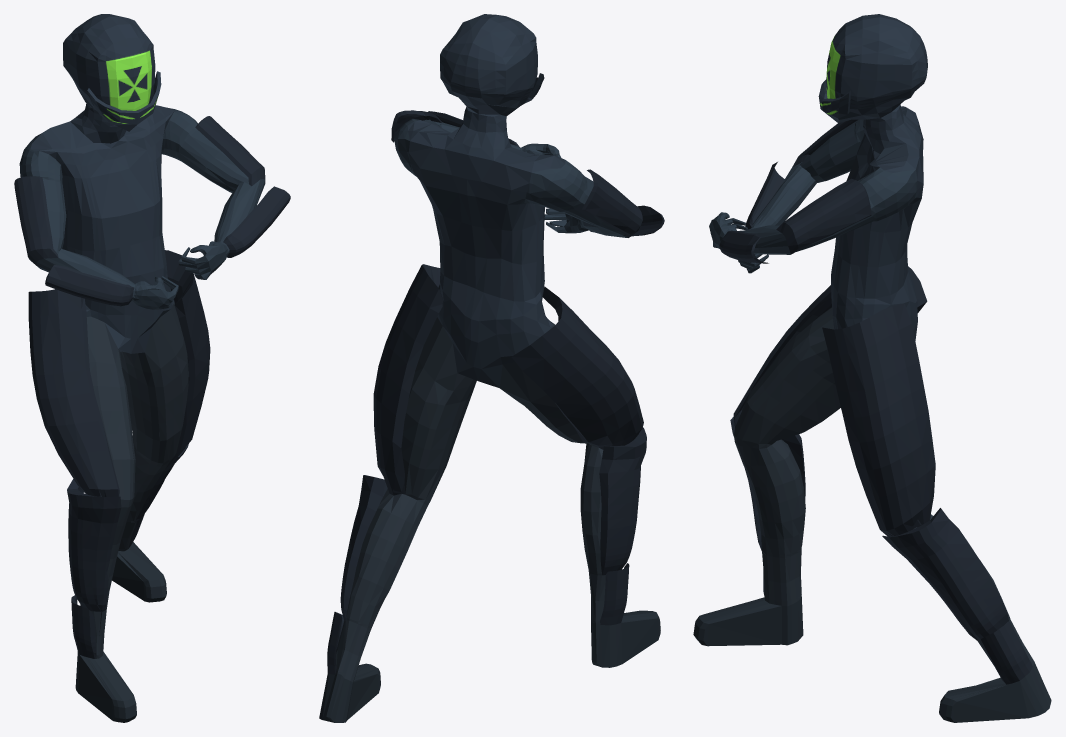
Rendered from Bastion_Stun_000006.obj.
3 views of the same model, side by side, from view 1: azimuth 30°, elevation 25°; view 2: azimuth 150°, elevation 25°; view 3: azimuth 270°, elevation 25° (orthographic). The views are drawn at different scales.
Parts seen in each view (by area): view 1: Cube.002; view 2: Cube.002; view 3: Cube.002.
Part boxes in pixels (x1=…): Cube.002: x1=14, y1=14, x2=290, y2=722; Cube.002: x1=319, y1=14, x2=664, y2=722; Cube.002: x1=693, y1=14, x2=1051, y2=722.
Size of the model in its own units: 1.43 by 3.66 by 1.8.
